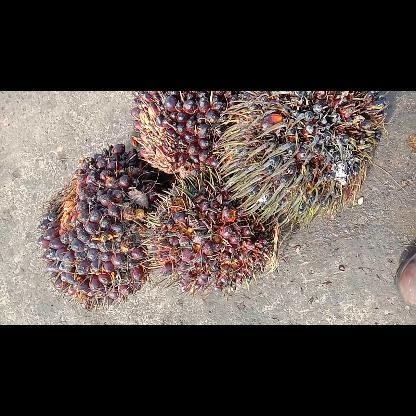Kurang masak: (150, 179, 274, 289), (130, 90, 242, 176)
TBS abnormal: (216, 90, 388, 226)
TBS masak: (37, 144, 169, 302)
